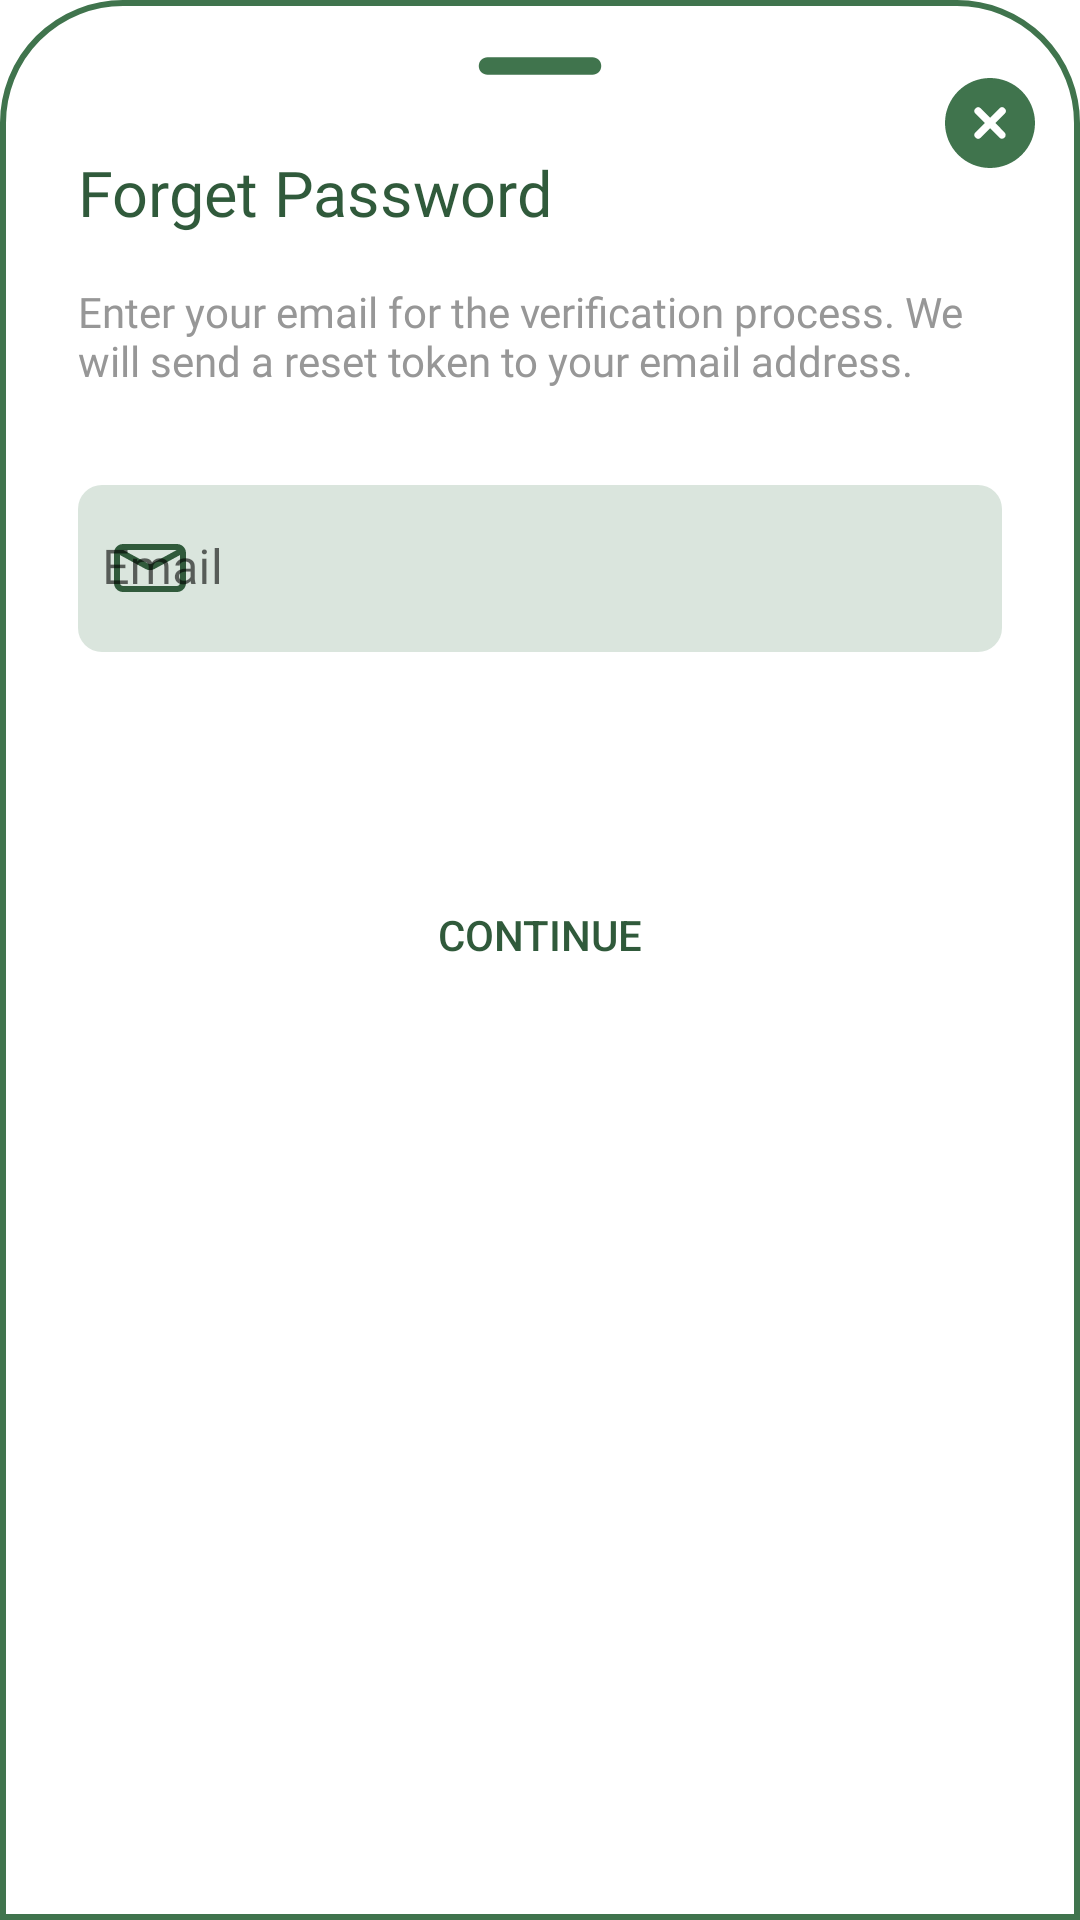

Where to tap for icons on this 1080 x 1920 app screen, as [x,y]:
close: [990,123]
